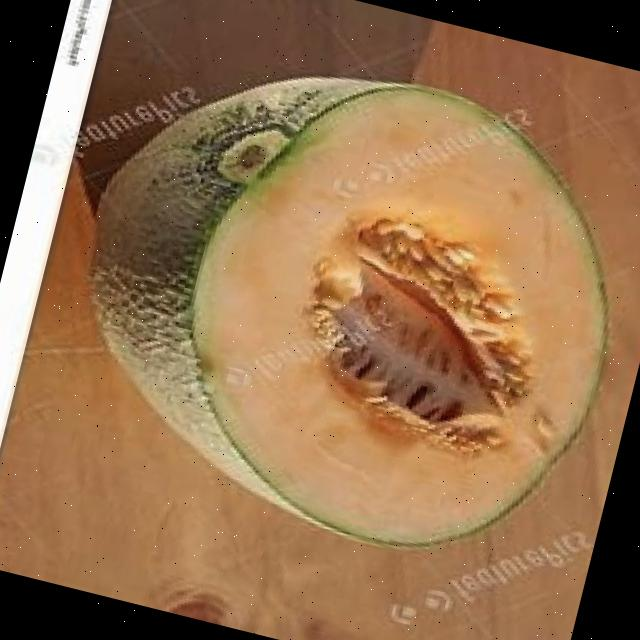Hami Melon: (36, 13, 640, 585)
